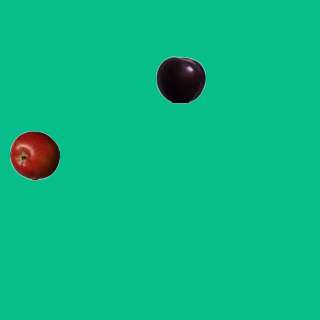Apple Braeburn: (9, 130, 59, 180)
Cherry Wax Black: (155, 54, 205, 104)
